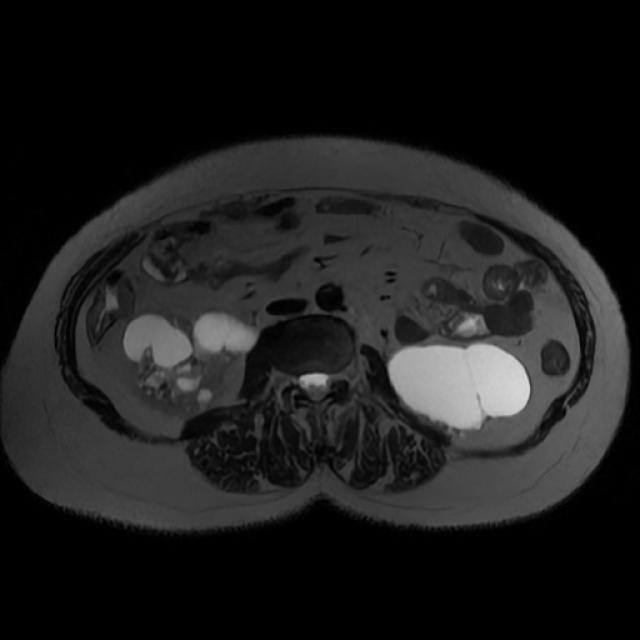sag: (124, 310, 256, 416)
sol: (389, 344, 530, 436)
